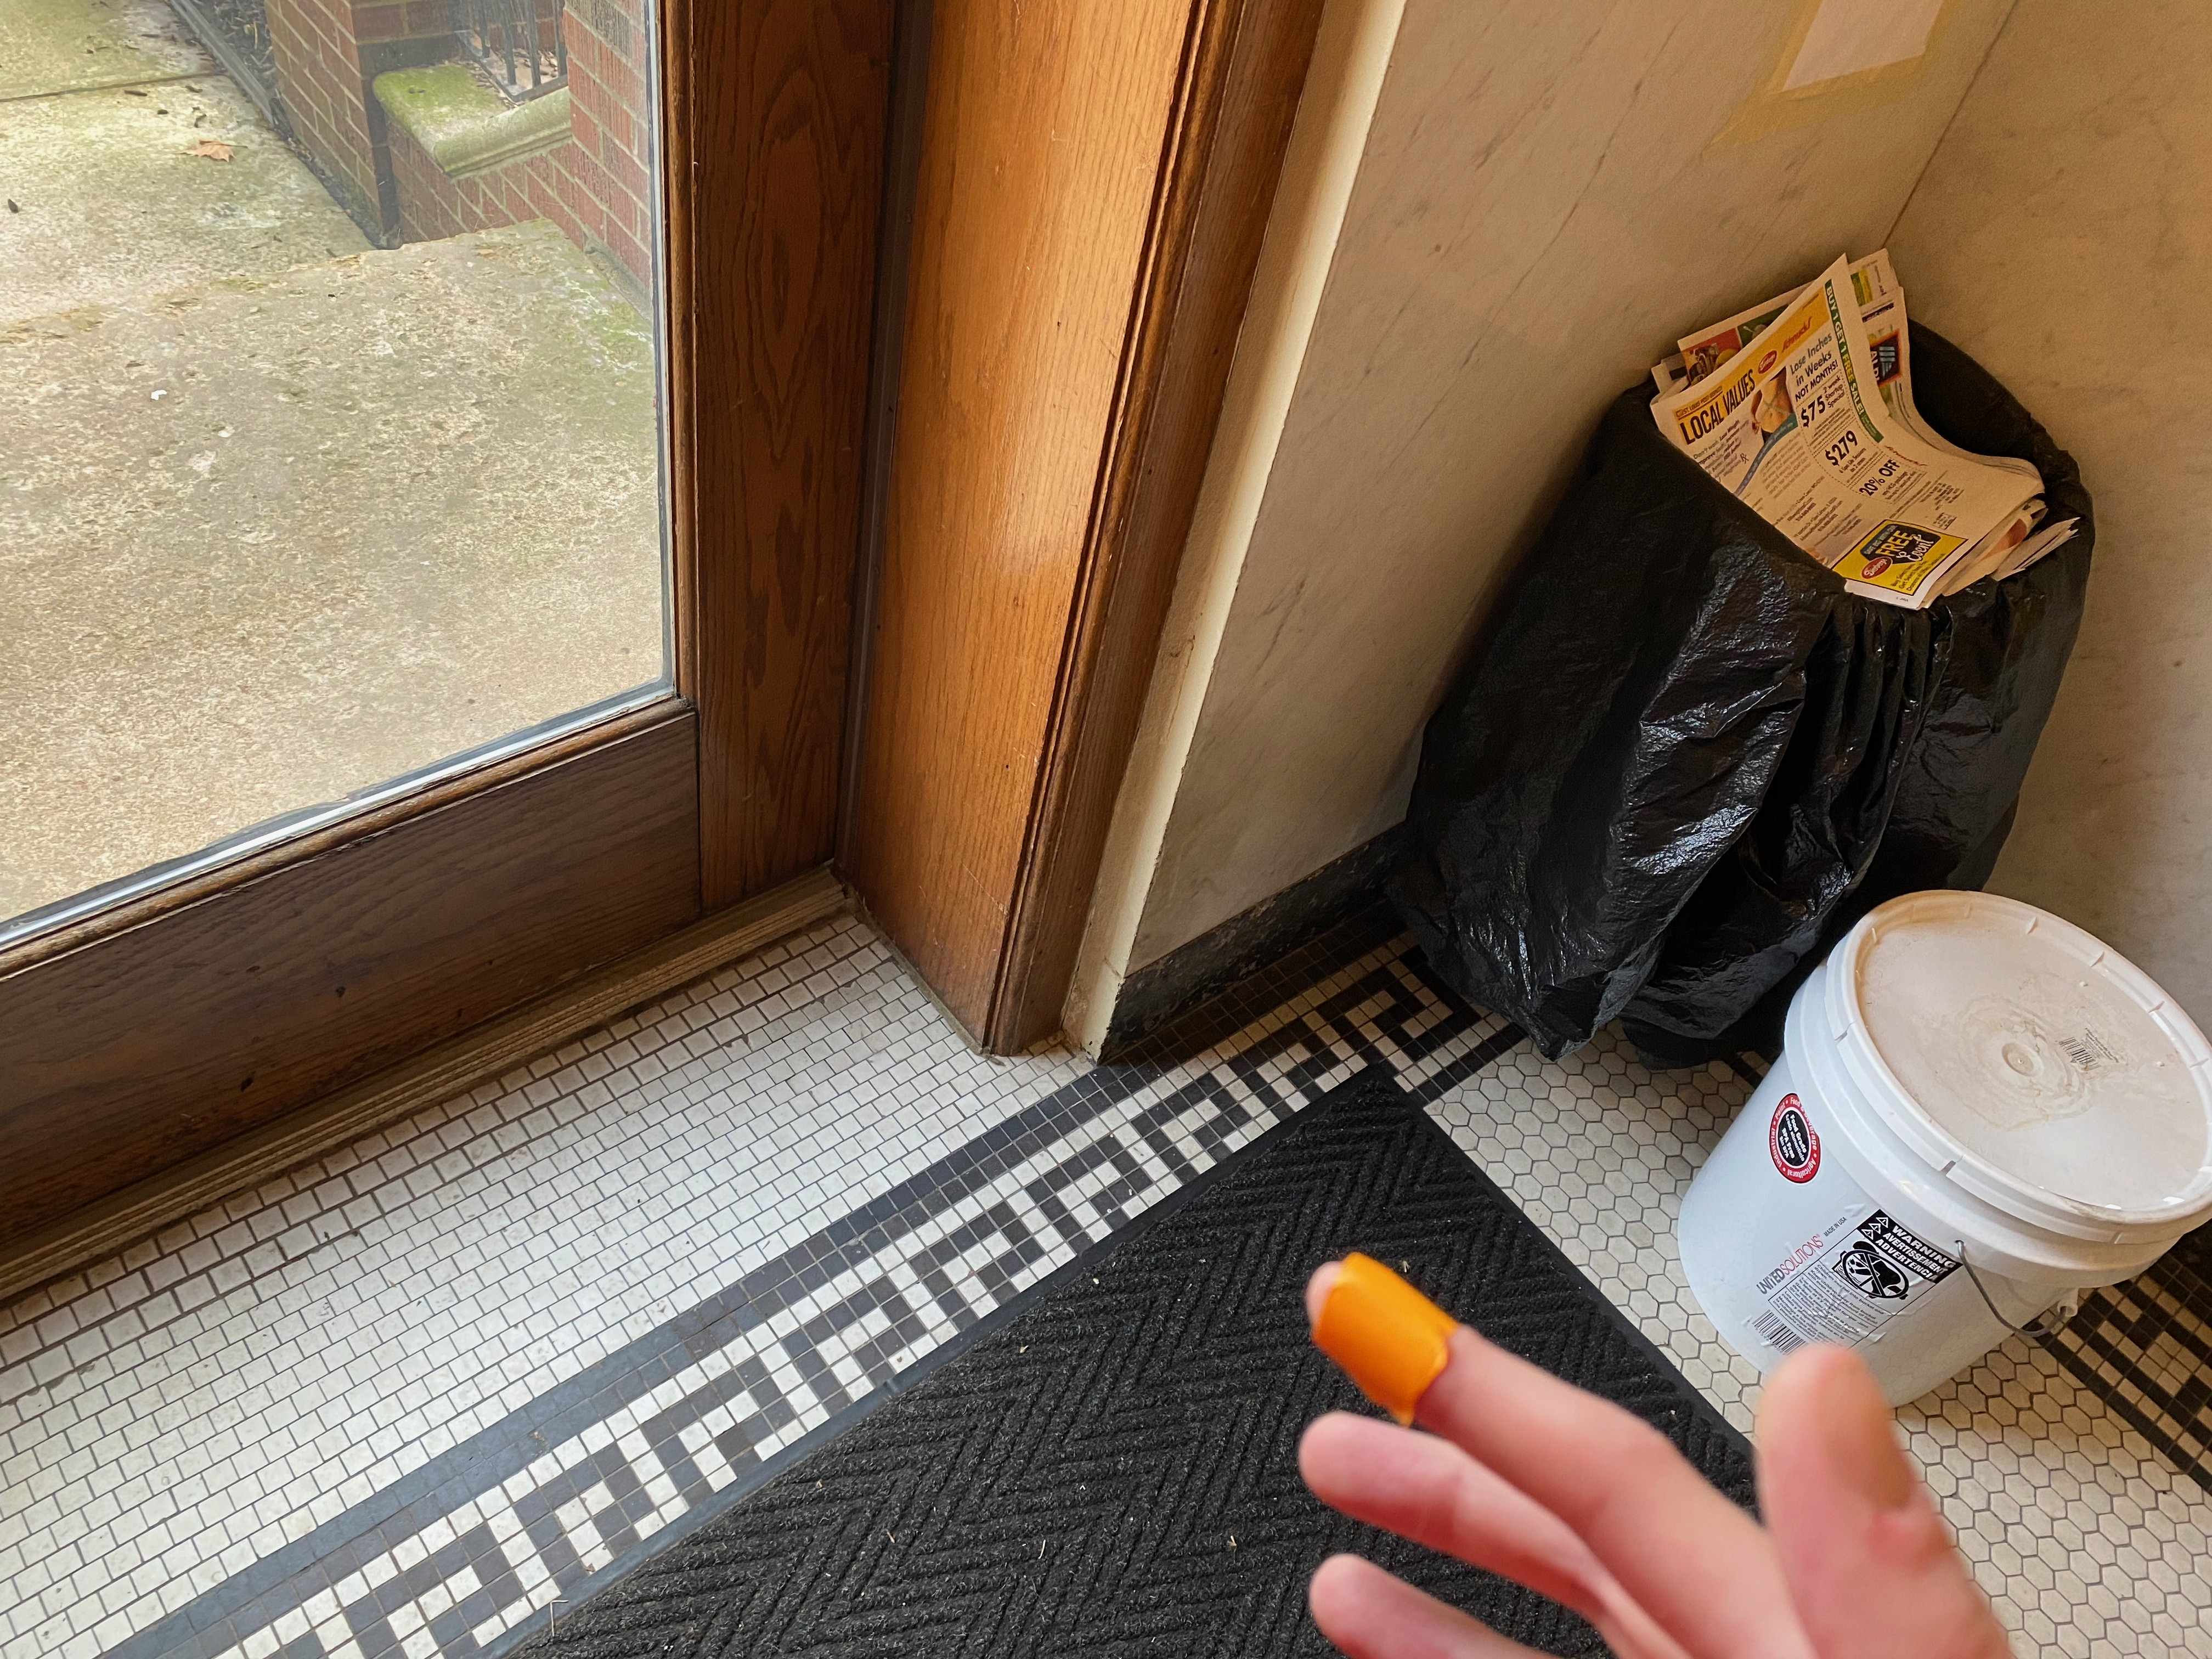fingertip: (1294, 1262, 1576, 1427)
